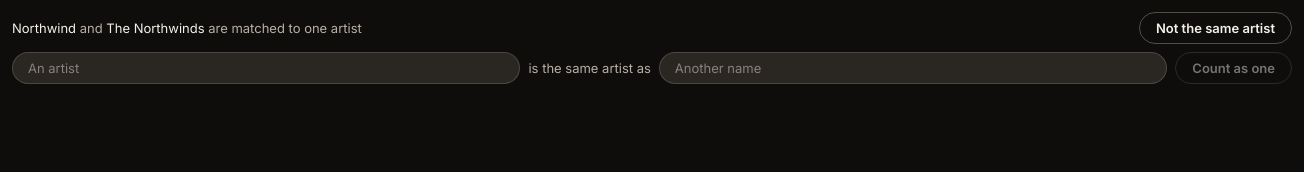
it: artists counted as one › lists names matched to one artist, keeps a pair apart, and joins them again
The width and height of the screenshot is (1304, 172).
Expected: the list item shows "Northwind and The Northwinds are matched to one artist", [12,12,1292,44]
Click the button with aria-label "Northwind and The Northwinds are not the same artist".
click(1216, 28)  # box [1139,12,1292,44]
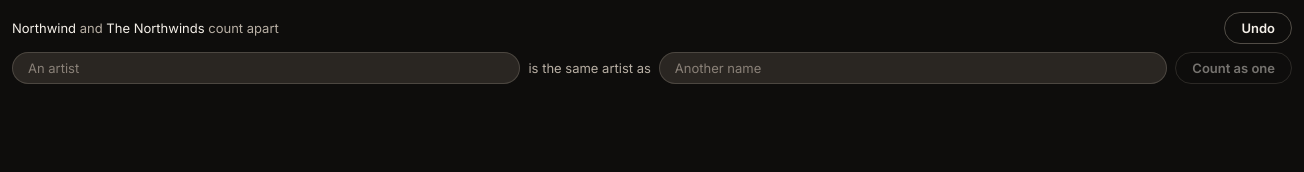
Expected: the list item shows "Northwind and The Northwinds count apart", [12,12,1292,44]
Expected: the list "matched to one artist" is gone
Click the button with aria-label "Count Northwind and The Northwinds as one again".
click(1258, 28)  # box [1224,12,1292,44]
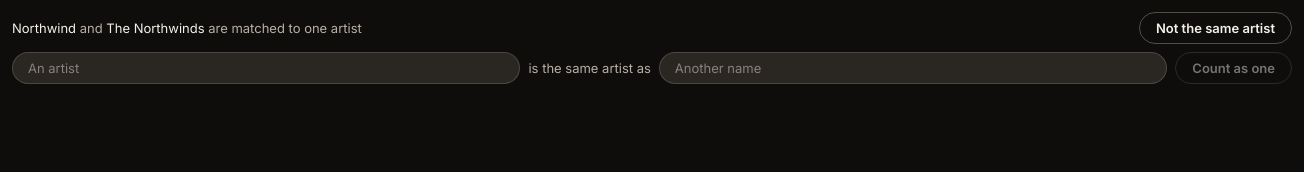
Expected: the list "matched to one artist" is shown, [12,12,1292,44]
